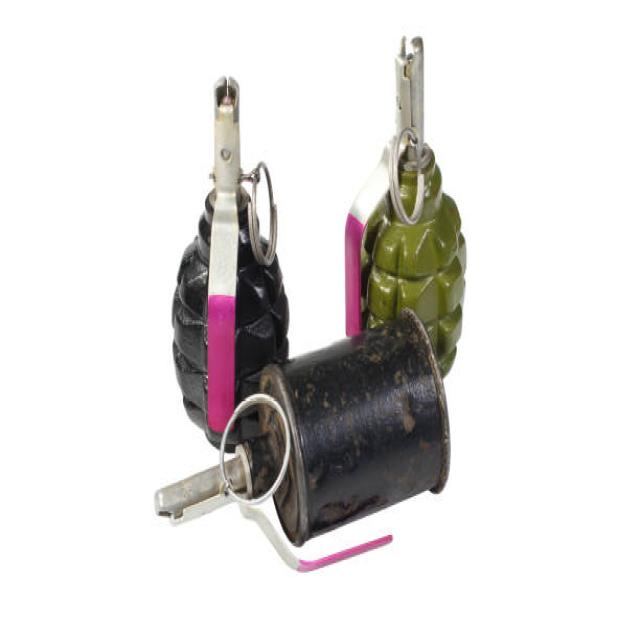grenade: (152, 302, 455, 578), (168, 73, 294, 453), (337, 26, 470, 380)
